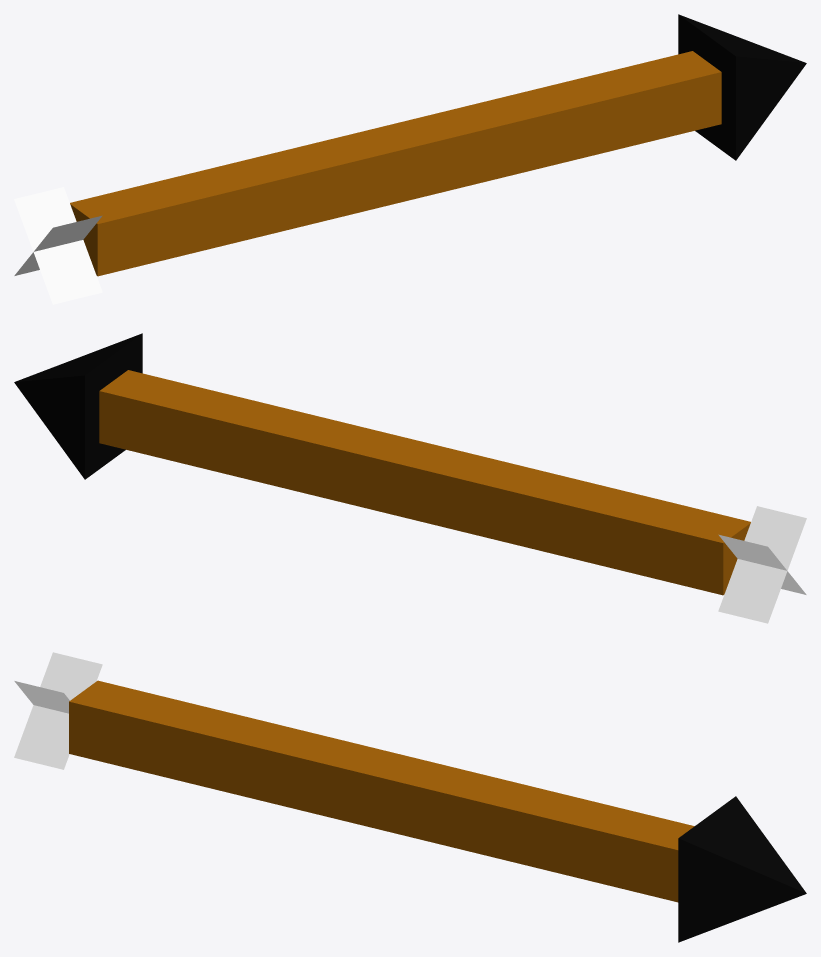
File: Arrow.obj
3 views of the same model, one above another, from view 1: azimuth 30°, elevation 25°; view 2: azimuth 150°, elevation 25°; view 3: azimuth 330°, elevation 25° (orthographic).
Visible parts, largest first — view 1: mesh, pyramid, plane; view 2: mesh, pyramid, plane; view 3: mesh, pyramid, plane.
Boxes of the visible parts, bbox=[...] form: mesh: bbox=[70, 51, 721, 276]; pyramid: bbox=[678, 14, 806, 160]; plane: bbox=[14, 187, 102, 304]; mesh: bbox=[99, 370, 750, 595]; pyramid: bbox=[14, 333, 142, 479]; plane: bbox=[718, 506, 806, 623]; mesh: bbox=[69, 680, 694, 902]; pyramid: bbox=[678, 796, 806, 942]; plane: bbox=[14, 652, 102, 769].
Bounding box in the file's own units: 0.9688 × 0.125 × 0.125.
Materials: 4 (4 with a texture image).
